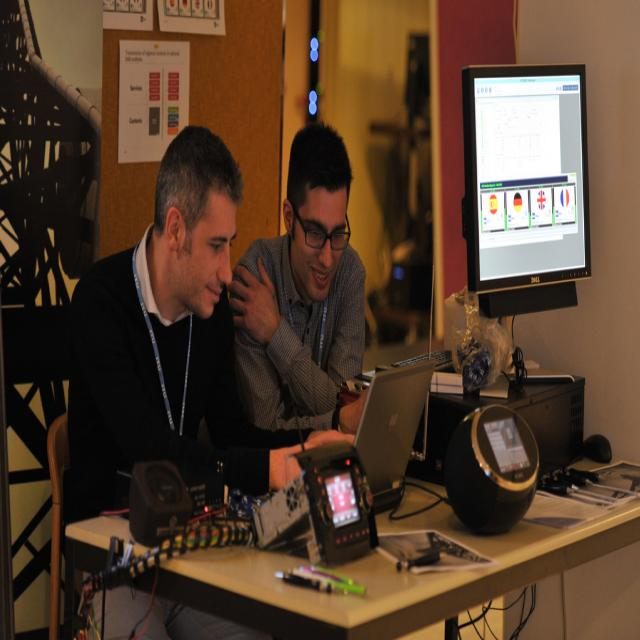chair: (47, 412, 73, 637)
desk: (66, 389, 640, 639)
laptop: (298, 357, 436, 511)
person: (65, 124, 339, 527), (227, 123, 367, 441)
tv: (461, 63, 591, 314)
